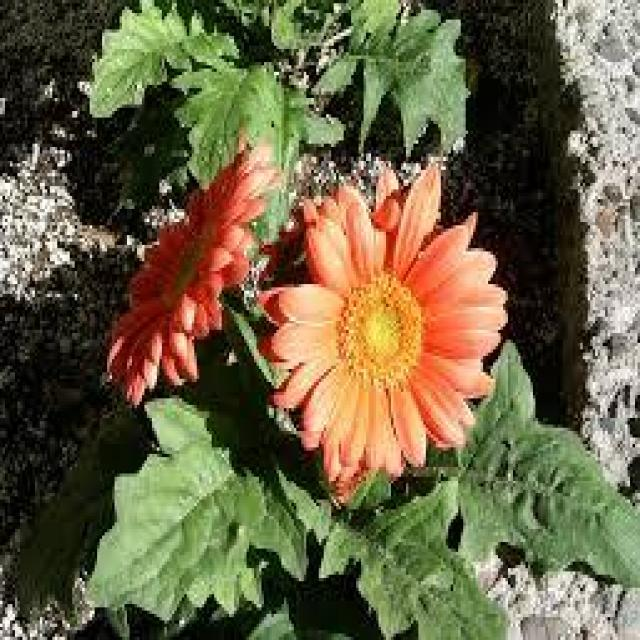organic waste: (249, 158, 523, 482)
